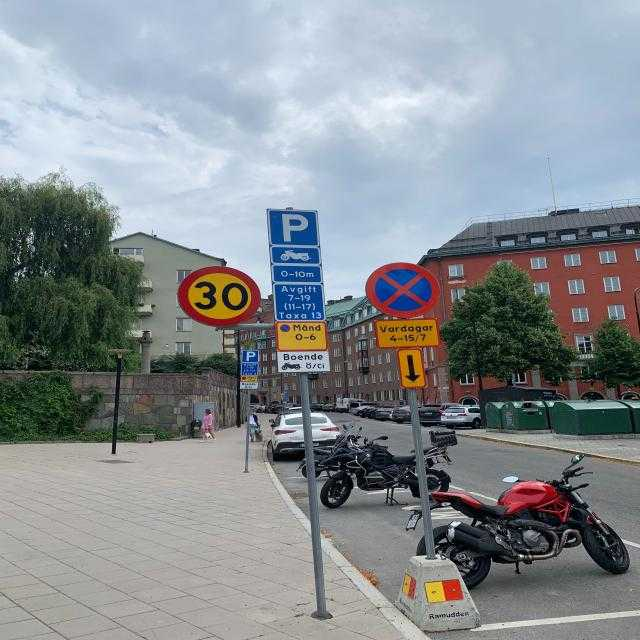psign: (268, 210, 318, 245), (242, 350, 259, 363)
